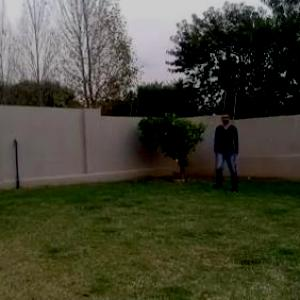follow: (215, 109, 235, 190)
